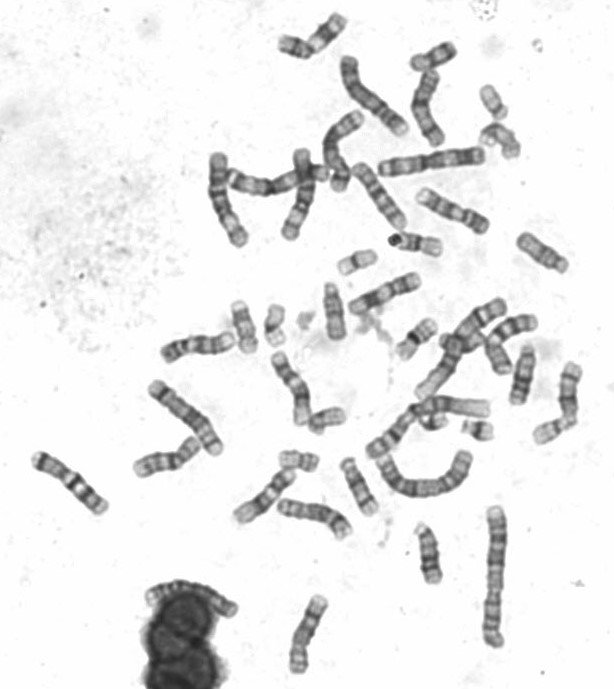chromosomes: (412, 296, 510, 402), (363, 393, 498, 461), (142, 374, 228, 463), (336, 46, 414, 141), (25, 442, 111, 519), (374, 444, 482, 503), (479, 499, 517, 654), (136, 566, 240, 620), (201, 146, 252, 254), (283, 588, 337, 678), (375, 140, 490, 182), (349, 159, 410, 233), (272, 7, 351, 64), (221, 160, 333, 200), (346, 265, 427, 319), (319, 107, 368, 196), (415, 185, 493, 240), (267, 349, 318, 433), (483, 310, 545, 379), (229, 468, 301, 527), (124, 434, 202, 485), (278, 141, 317, 243), (277, 498, 360, 545), (407, 69, 450, 151), (406, 513, 451, 591), (156, 328, 242, 367), (514, 223, 574, 275), (340, 450, 381, 522), (392, 312, 440, 363), (225, 296, 264, 357), (507, 340, 541, 408), (405, 34, 460, 74), (557, 355, 587, 427), (317, 279, 350, 343), (476, 118, 524, 161), (307, 399, 356, 441), (385, 230, 450, 260), (436, 323, 489, 358), (332, 244, 382, 281), (261, 301, 296, 353), (273, 443, 324, 472), (481, 76, 512, 120), (532, 416, 570, 450), (456, 415, 499, 444), (417, 407, 455, 437)
